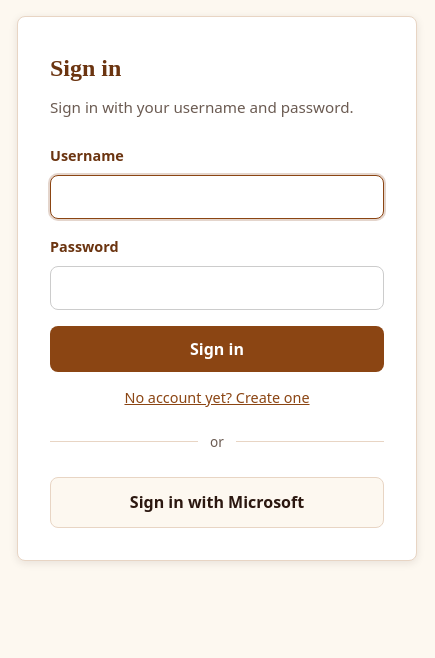
Scenario: LoginPage — sign in › shows the lockout message on 429
Type "alice" into the field labelled "Username".
click(217, 197); type("alice")  # box left=50, top=175, right=384, bottom=219
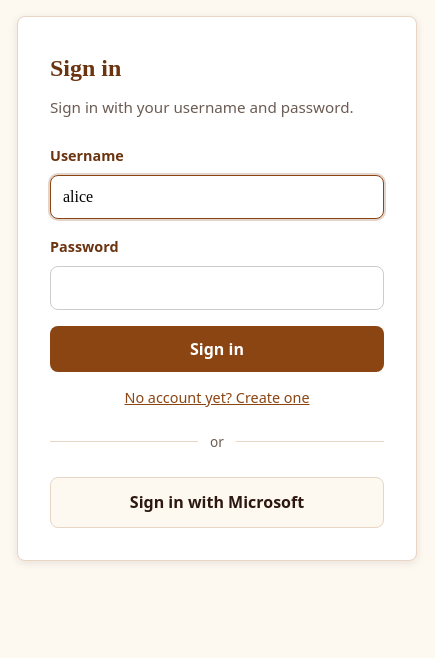
Type "wrong-password" into the password field labelled "Password".
click(217, 288); type("wrong-password")  # box left=50, top=266, right=384, bottom=310
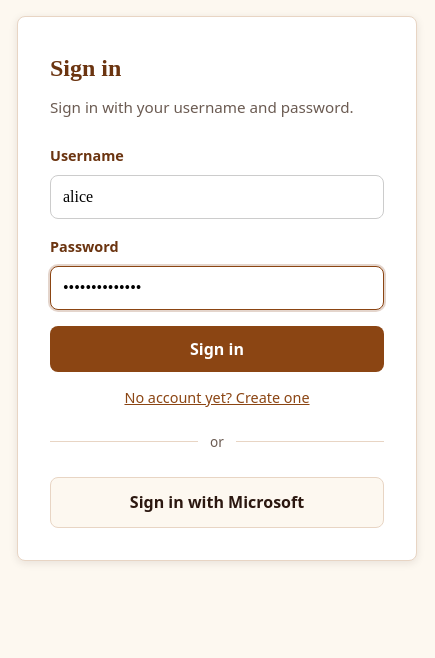
Click the button "Sign in".
click(217, 349)  # box left=50, top=326, right=384, bottom=372
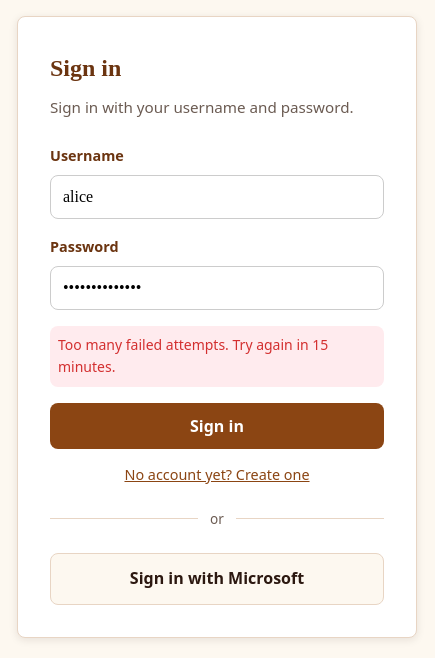
Expected: the message shows "Too many failed attempts", left=58, top=335, right=328, bottom=376
